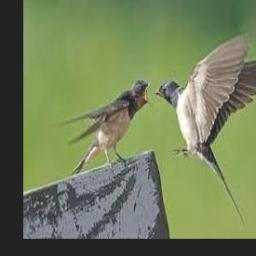Swallow: (155, 32, 256, 226), (57, 79, 152, 175)
